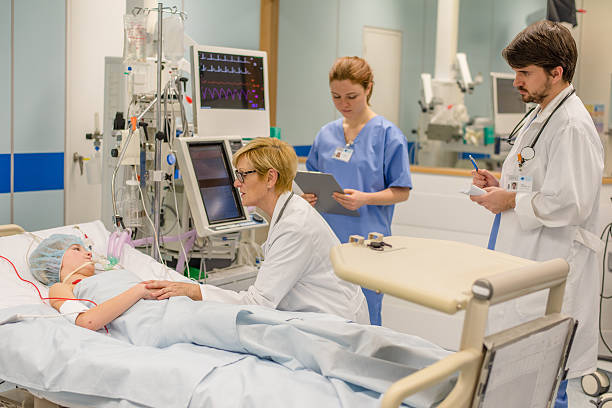bedside_monitor: (188, 45, 273, 136), (184, 135, 250, 228), (492, 73, 526, 117)
breathing_tube: (97, 228, 197, 271)
foot_board: (380, 314, 582, 408)
hospital_bed: (1, 221, 554, 408)
iv_pole: (130, 1, 190, 264)
overbed_table: (328, 225, 577, 408)
patient: (37, 228, 295, 371)
staff: (475, 16, 594, 408), (142, 137, 371, 327), (300, 56, 412, 327)
